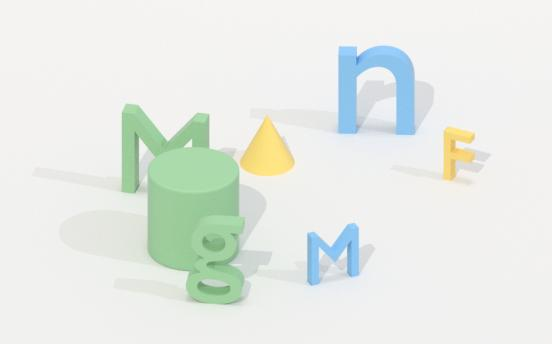F: (439, 122, 483, 184)
M-hoa: (115, 104, 217, 190), (303, 221, 363, 286)
g: (185, 213, 252, 307)
n: (330, 40, 425, 139)
non: (233, 114, 301, 179)
tru: (139, 150, 248, 270)
